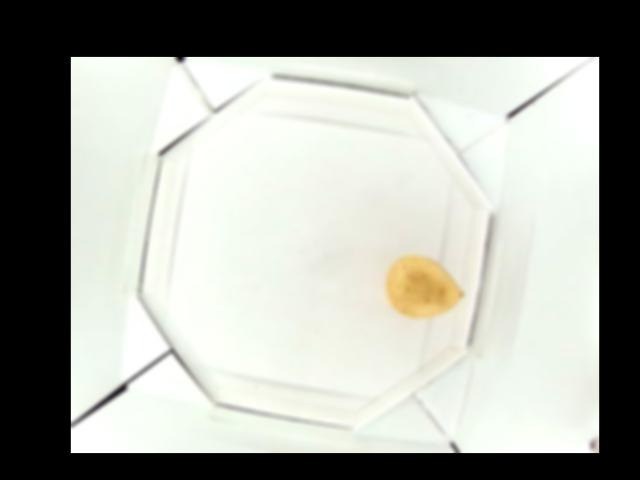Potato: (385, 255, 465, 320)
